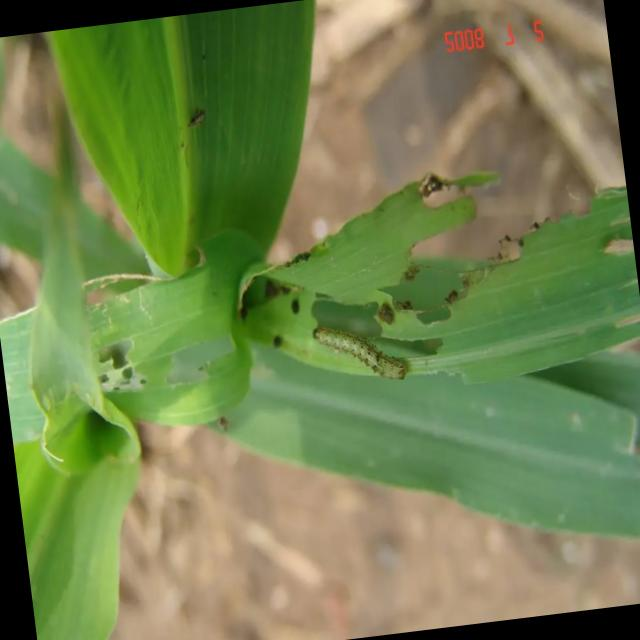pest: (313, 313, 411, 389)
